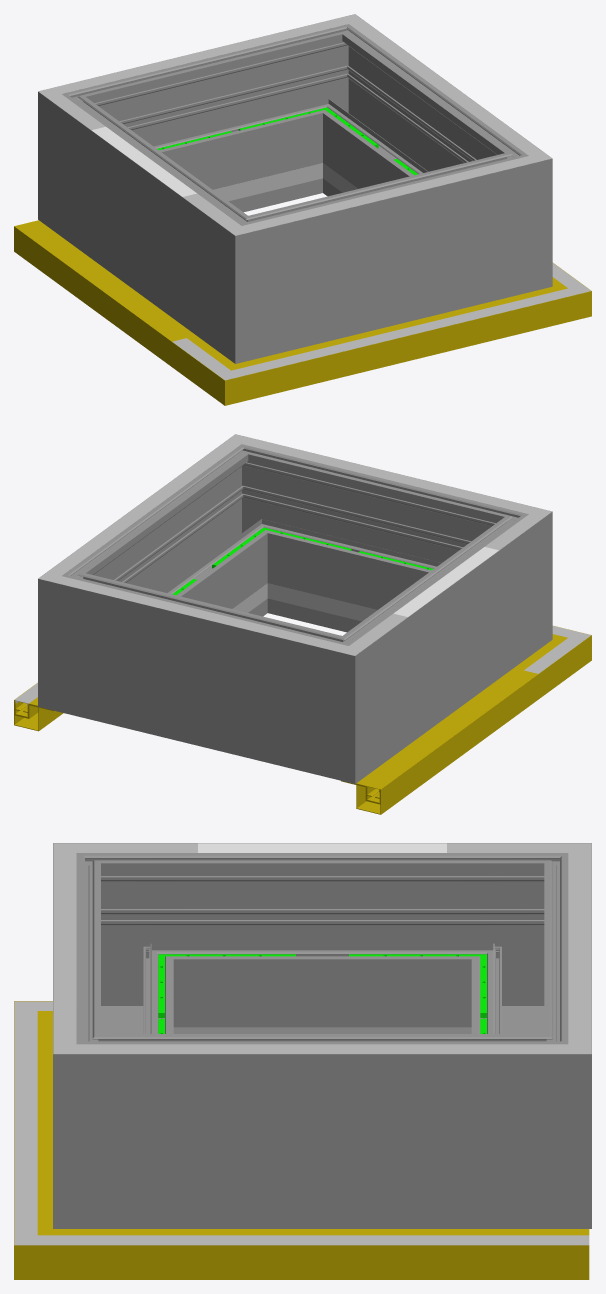
The picture shows the model from 3 angles, top to bottom: view 1: azimuth 30°, elevation 25°; view 2: azimuth 150°, elevation 25°; view 3: azimuth 270°, elevation 25°; orthographic projection. The views are drawn at different scales.
Visible parts, largest first — view 1: 3DGeom-270, 3DGeom-298, 3DGeom-276, 3DGeom-290, 3DGeom-268, 3DGeom-284, 3DGeom-297, 3DGeom-278, 3DGeom-11, 3DGeom-6, 3DGeom-8, 3DGeom-13 (+13 smaller); view 2: 3DGeom-278, 3DGeom-276, 3DGeom-298, 3DGeom-284, 3DGeom-268, 3DGeom-290, 3DGeom-297, 3DGeom-270, 3DGeom-6, 3DGeom-25, 3DGeom-8, 3DGeom-246 (+10 smaller); view 3: 3DGeom-297, 3DGeom-268, 3DGeom-284, 3DGeom-290, 3DGeom-16, 3DGeom-278, 3DGeom-270, 3DGeom-13, 3DGeom-18, 3DGeom-298, 3DGeom-276, 3DGeom-20 (+15 smaller).
Boxes of the visible parts, <box> form: 3DGeom-270: <box>182,190,327,363</box>; 3DGeom-298: <box>310,168,460,341</box>; 3DGeom-276: <box>132,36,307,212</box>; 3DGeom-290: <box>444,120,552,308</box>; 3DGeom-268: <box>91,123,212,324</box>; 3DGeom-284: <box>264,14,407,196</box>; 3DGeom-297: <box>331,53,499,195</box>; 3DGeom-278: <box>38,69,173,257</box>; 3DGeom-11: <box>302,303,500,383</box>; 3DGeom-6: <box>14,220,196,366</box>; 3DGeom-8: <box>172,336,316,405</box>; 3DGeom-13: <box>486,263,591,338</box>; 3DGeom-278: <box>263,610,408,783</box>; 3DGeom-276: <box>129,588,280,761</box>; 3DGeom-298: <box>283,456,460,632</box>; 3DGeom-284: <box>38,540,146,728</box>; 3DGeom-268: <box>378,543,499,744</box>; 3DGeom-290: <box>183,434,326,616</box>; 3DGeom-297: <box>91,473,258,615</box>; 3DGeom-270: <box>417,489,552,677</box>; 3DGeom-6: <box>341,668,538,814</box>; 3DGeom-25: <box>366,670,537,792</box>; 3DGeom-8: <box>514,625,591,698</box>; 3DGeom-246: <box>232,583,356,619</box>; 3DGeom-297: <box>197,1034,447,1228</box>; 3DGeom-268: <box>197,843,447,1027</box>; 3DGeom-284: <box>447,993,591,1228</box>; 3DGeom-290: <box>53,993,197,1228</box>; 3DGeom-16: <box>158,1229,589,1279</box>; 3DGeom-278: <box>447,843,591,1033</box>; 3DGeom-270: <box>53,843,197,1033</box>; 3DGeom-13: <box>14,1184,158,1279</box>; 3DGeom-18: <box>159,1235,589,1245</box>; 3DGeom-298: <box>53,904,173,1033</box>; 3DGeom-276: <box>471,904,591,1033</box>; 3DGeom-20: <box>14,1062,37,1183</box>.
Bounding box in the file's own units: 0.6096 × 0.2434 × 0.6096.
